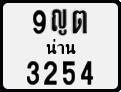letters: (50, 8, 68, 36), (30, 9, 47, 35), (71, 9, 88, 35), (24, 60, 40, 86), (79, 60, 95, 86), (61, 60, 77, 85), (43, 61, 58, 86)
province: (45, 38, 76, 56)
